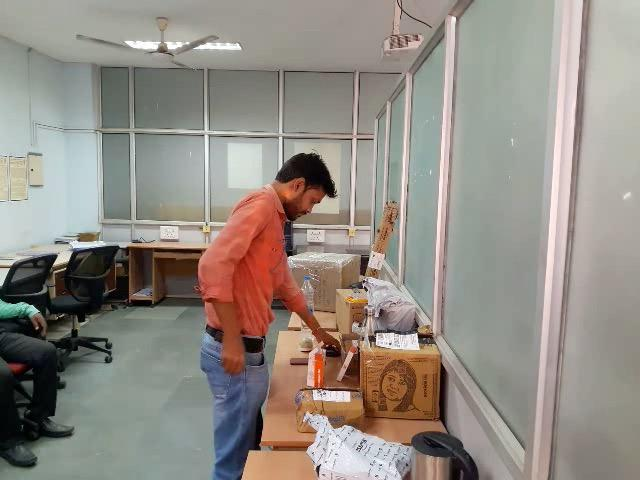shoplifting: (154, 308, 300, 376)
